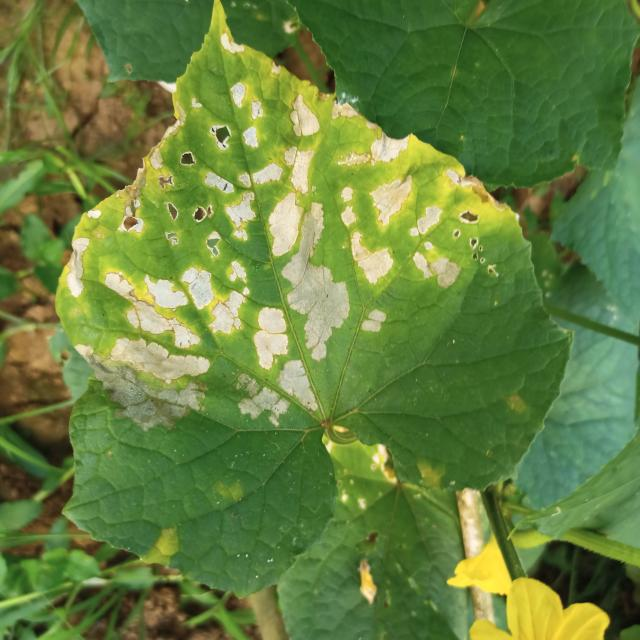disease_cucumber: (69, 48, 459, 434), (138, 518, 184, 570)
